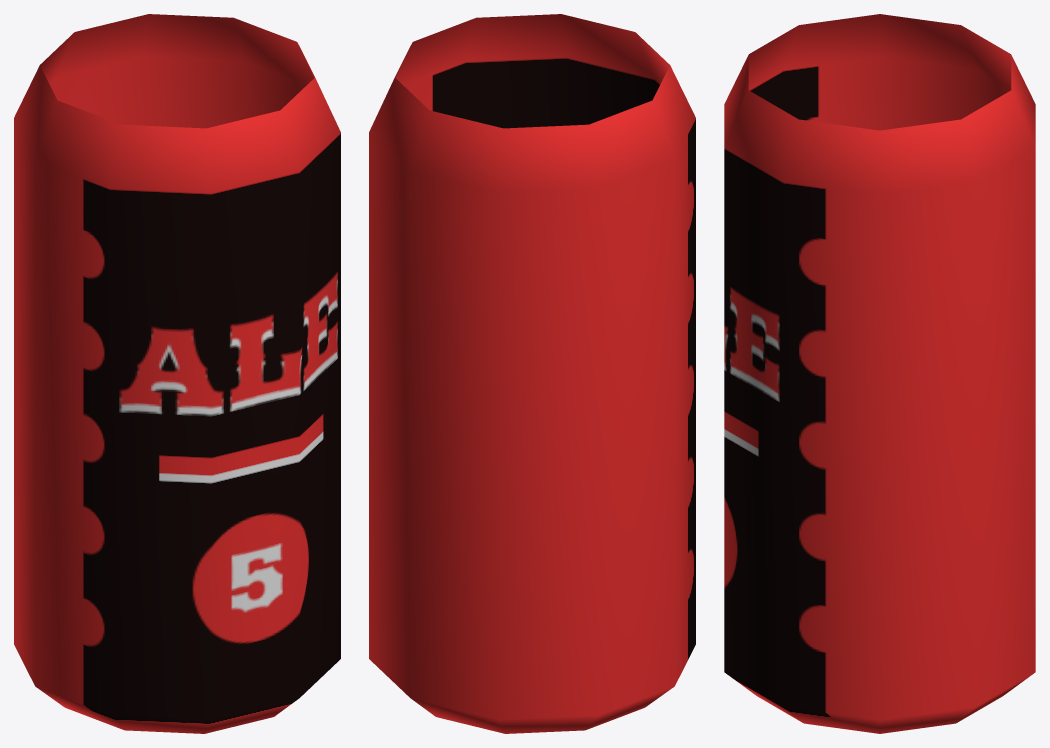
The model's file is King_Can_02.fbx.
3 renders of one model, left to right at view 1: azimuth 30°, elevation 25°; view 2: azimuth 150°, elevation 25°; view 3: azimuth 270°, elevation 25°, orthographic.
Parts seen in each view (by area): view 1: King_Can_02; view 2: King_Can_02; view 3: King_Can_02.
Part boxes in pixels (x1,y1,x2,y2): King_Can_02: (14,14,340,733); King_Can_02: (369,14,695,733); King_Can_02: (724,14,1035,733).
Bounding box in the file's own units: 35.85 × 73.31 × 34.1.
